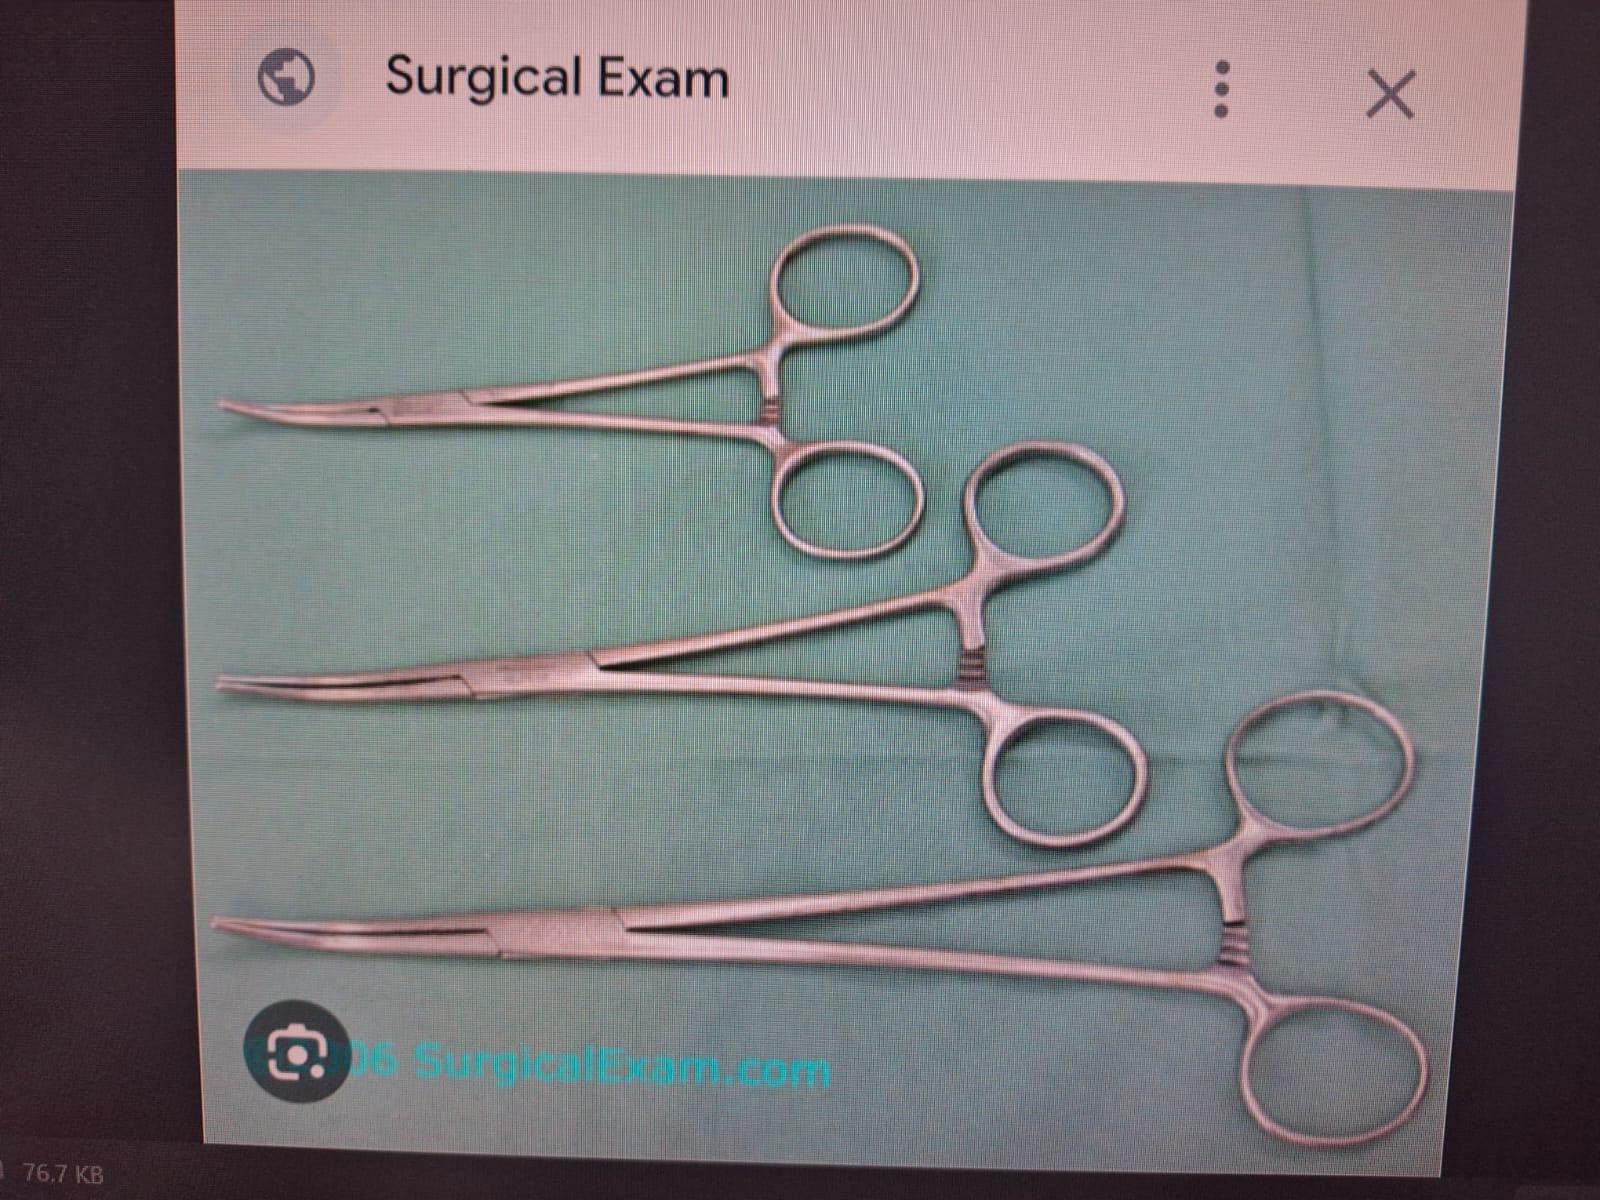Artery Forceps: (200, 679, 1453, 1158), (204, 429, 1151, 862), (204, 216, 939, 572)
